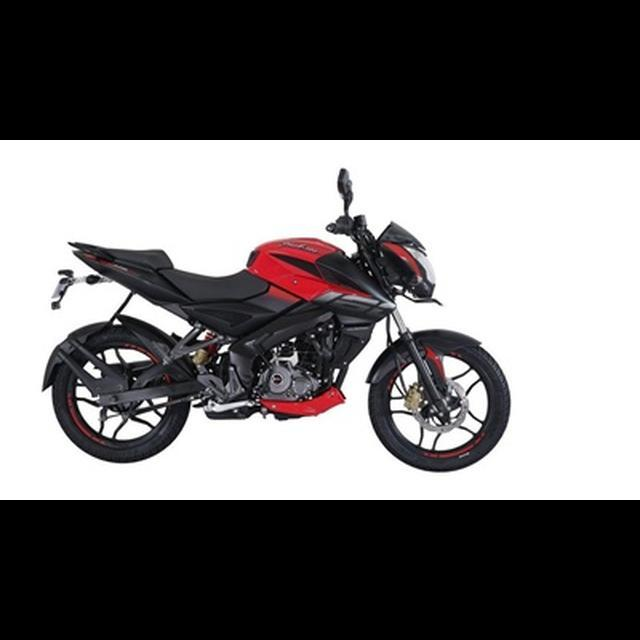motorcycle: (35, 163, 515, 475)
